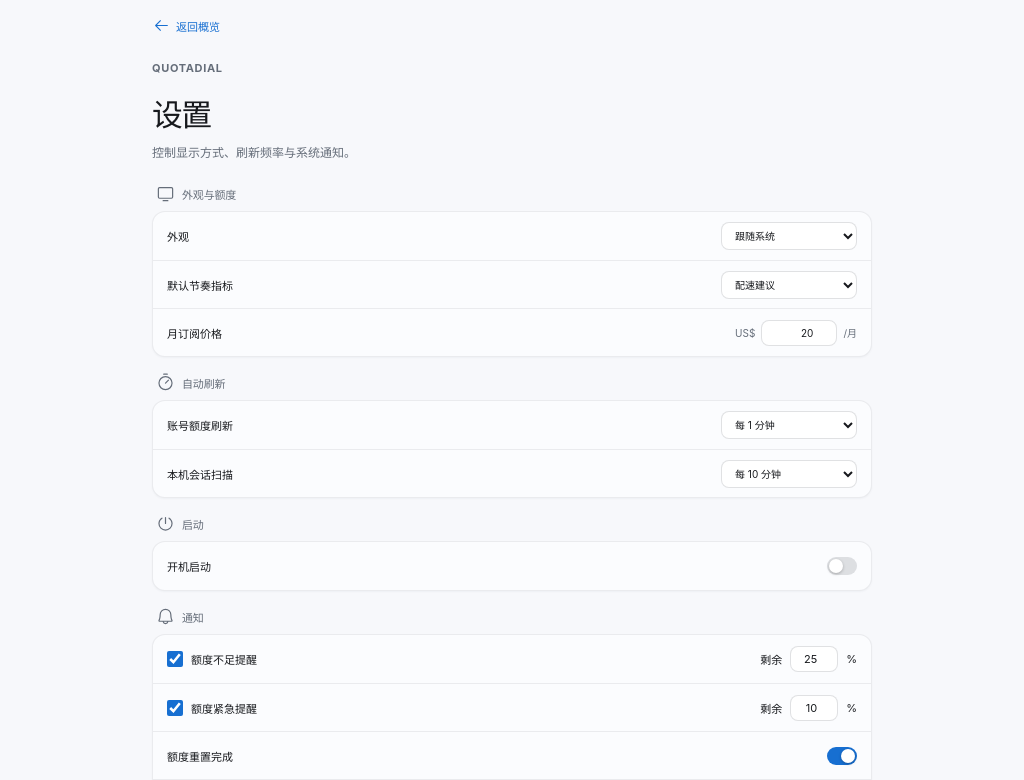
Test: SettingsPage › rejects a critical threshold above the warning threshold
This screenshot has width=1024, height=780.
Step 1. Replace the text in the number field named "紧急提醒阈值" with "30" → coordinates (814, 708), box [790,694,838,720]
(page scrolled)
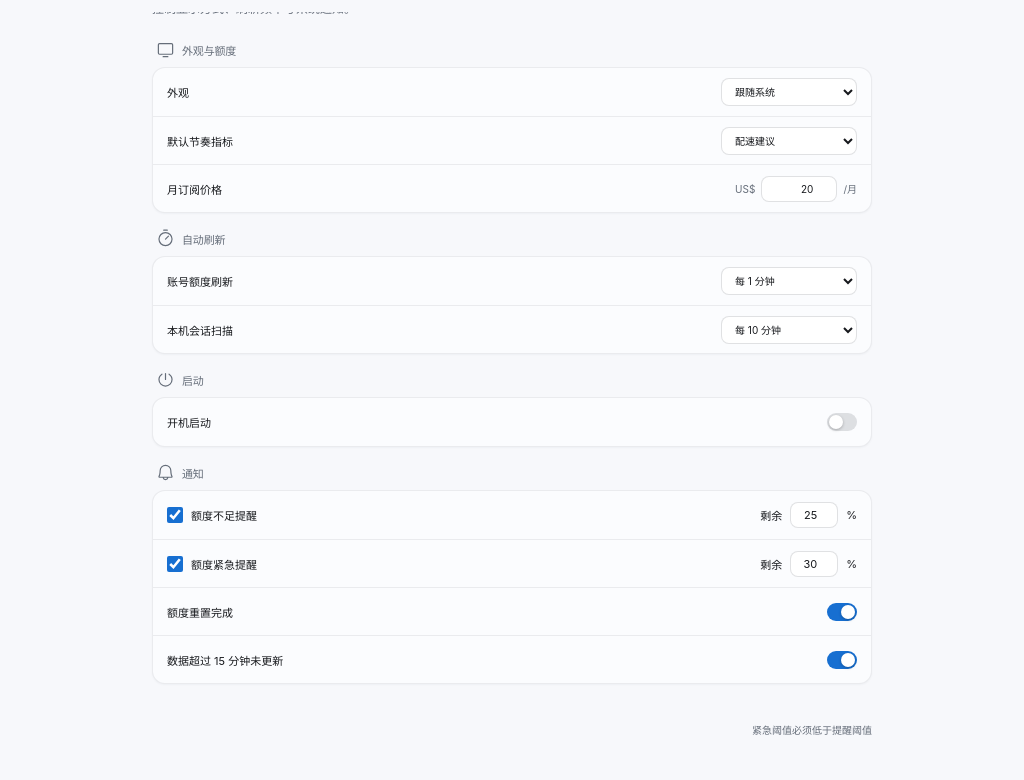
Expected: the text "紧急阈值必须低于提醒阈值" is shown, [752,722,872,736]
